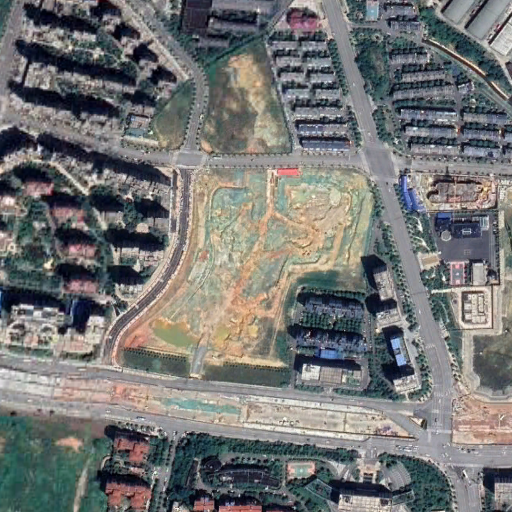cw: (121, 165, 373, 386)
